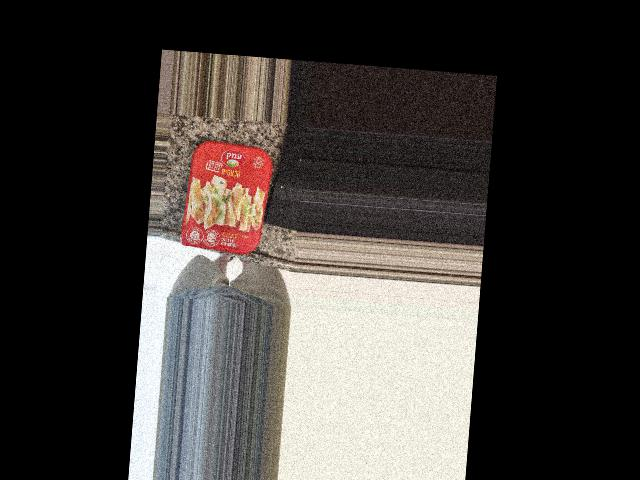cheese: (176, 141, 272, 258)
